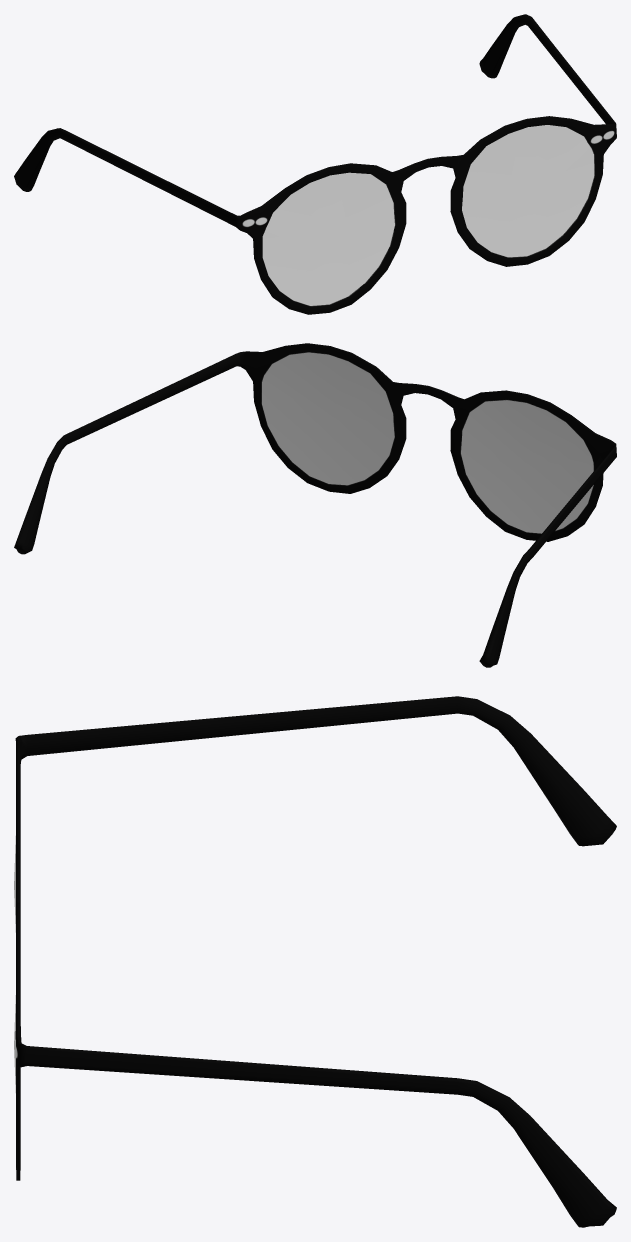
The model's file is Glasses.glb.
The picture shows the model from 3 angles, top to bottom: view 1: azimuth 30°, elevation 25°; view 2: azimuth 150°, elevation 25°; view 3: azimuth 270°, elevation 25°; orthographic projection. The views are drawn at different scales.
Visible parts, largest first — view 1: Glasses; view 2: Glasses; view 3: Glasses.
Part boxes in pixels (x1=…): Glasses: x1=14, y1=14, x2=616, y2=314; Glasses: x1=14, y1=343, x2=616, y2=667; Glasses: x1=14, y1=696, x2=616, y2=1227.
Bounding box in the file's own units: 0.00917 × 0.00267 × 0.00598.
Materials: 2 (1 with a texture image).
